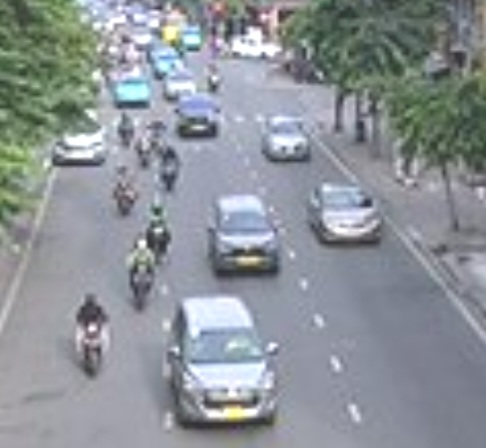car: (171, 298, 279, 422), (208, 194, 279, 280), (307, 180, 388, 247), (263, 115, 311, 161), (177, 97, 217, 140)
